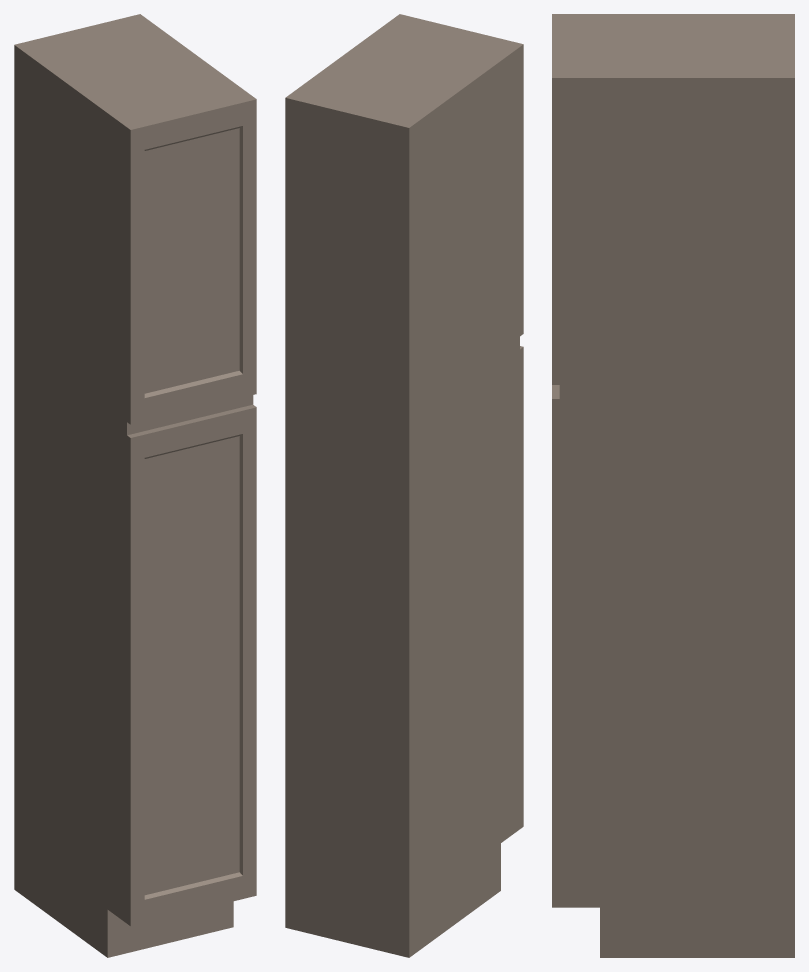
File: Universal-Design-Utility-Cabinet-24-Deep_std_001_W15in_1D.glb
3 renders of one model, left to right at view 1: azimuth 30°, elevation 25°; view 2: azimuth 150°, elevation 25°; view 3: azimuth 270°, elevation 25°, orthographic. The views are drawn at different scales.
Visible parts, largest first — view 1: Universal-Design-Utility-Cabinet-24-Deep.std.001_W15in_1D; view 2: Universal-Design-Utility-Cabinet-24-Deep.std.001_W15in_1D; view 3: Universal-Design-Utility-Cabinet-24-Deep.std.001_W15in_1D.
Part boxes in pixels (left/top/right/bottom): Universal-Design-Utility-Cabinet-24-Deep.std.001_W15in_1D: left=14, top=14, right=256, bottom=957; Universal-Design-Utility-Cabinet-24-Deep.std.001_W15in_1D: left=285, top=14, right=523, bottom=957; Universal-Design-Utility-Cabinet-24-Deep.std.001_W15in_1D: left=552, top=14, right=794, bottom=957.
Bounding box in the file's own units: 0.381 × 2.44 × 0.6096.
